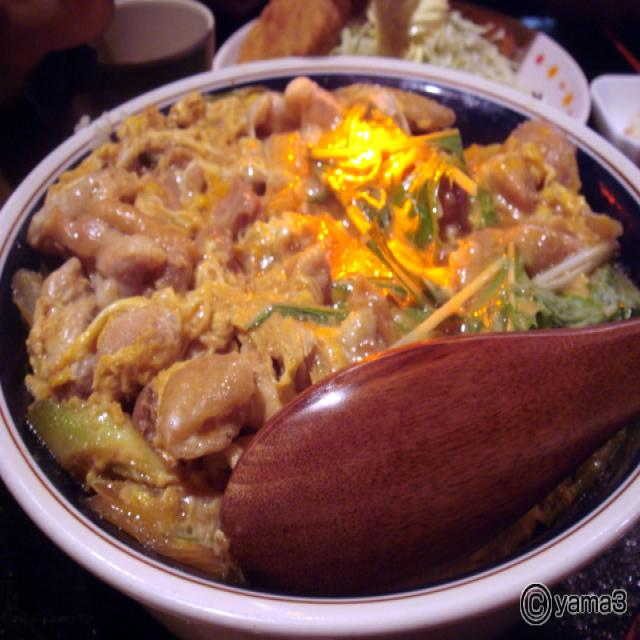米饭主食: (0, 49, 640, 576)
